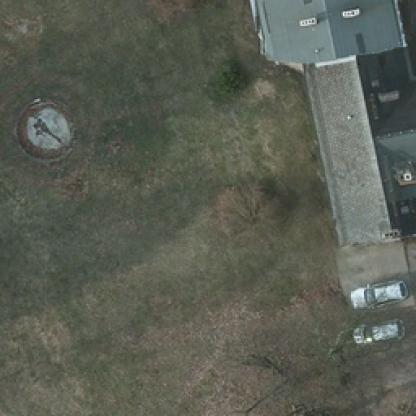car: (348, 278, 408, 312), (352, 315, 406, 344)
